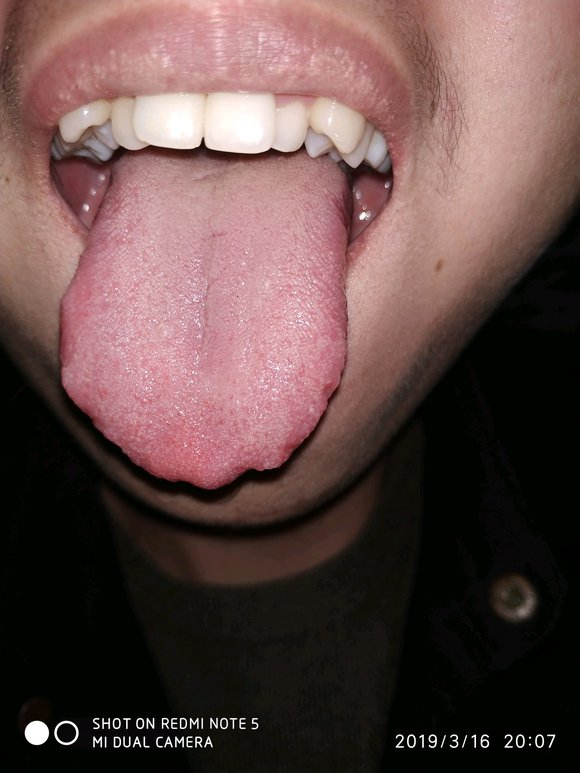baitaishe: (59, 143, 350, 489)
hongshe: (59, 143, 350, 489)
